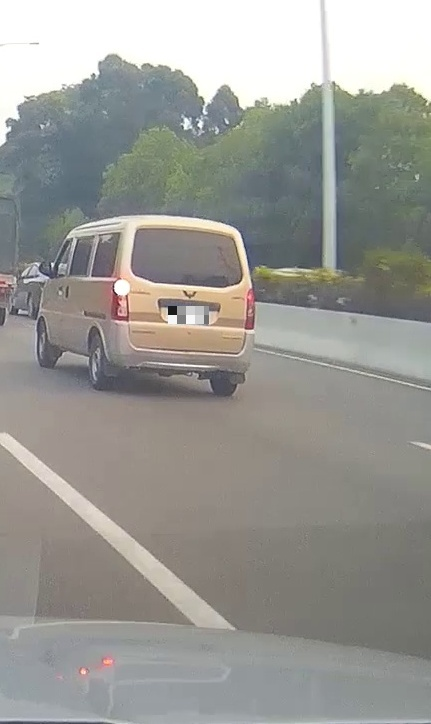L_light: (109, 277, 129, 321)
R_light: (244, 288, 255, 329)
T_light: (177, 229, 201, 233)
day-left: (107, 214, 256, 396)
plate_1: (168, 306, 209, 324)
